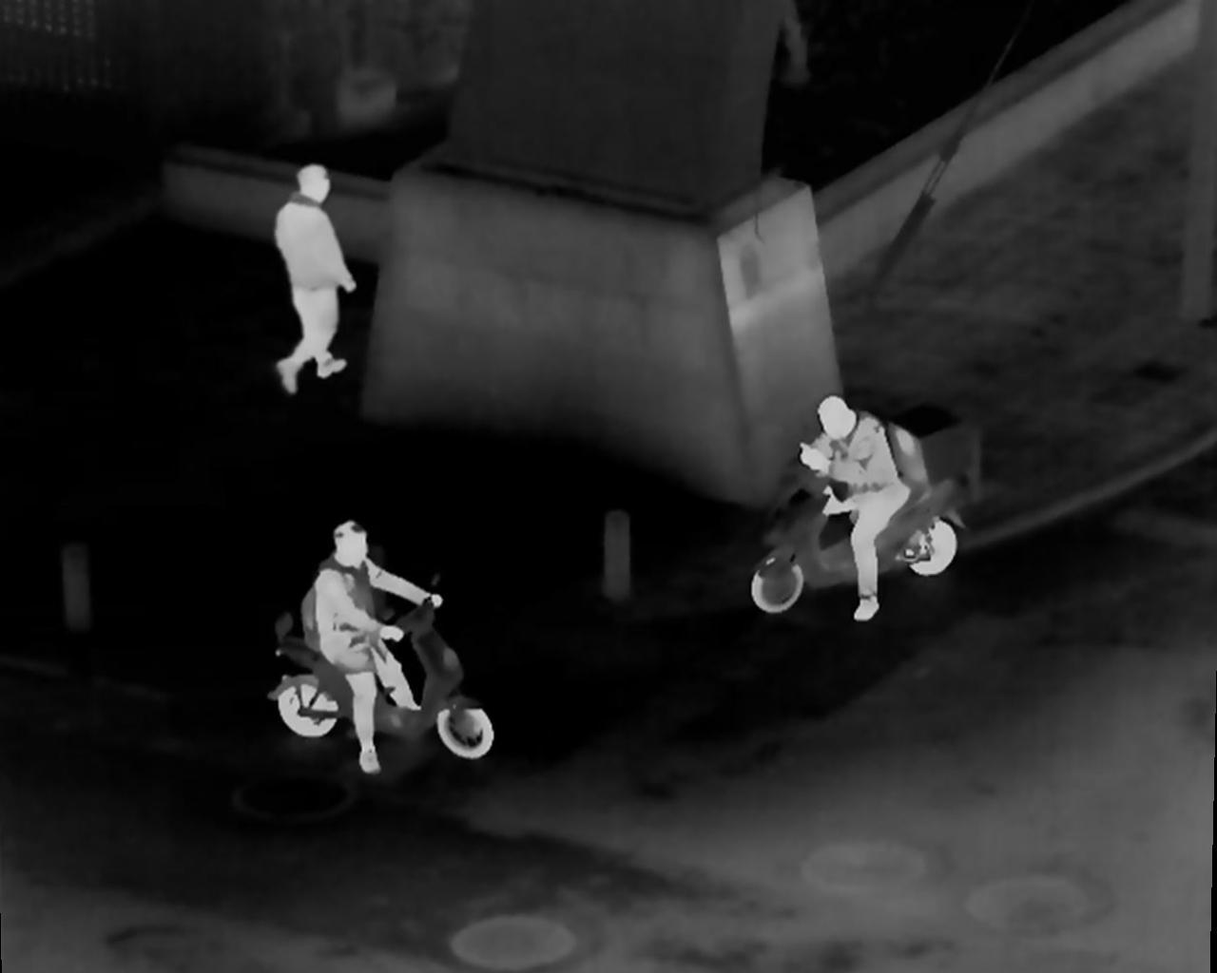person: (305, 512, 442, 785), (794, 399, 941, 622), (263, 169, 365, 387)
